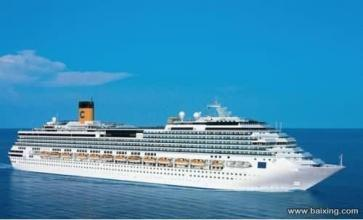youlun: (6, 93, 349, 193)
